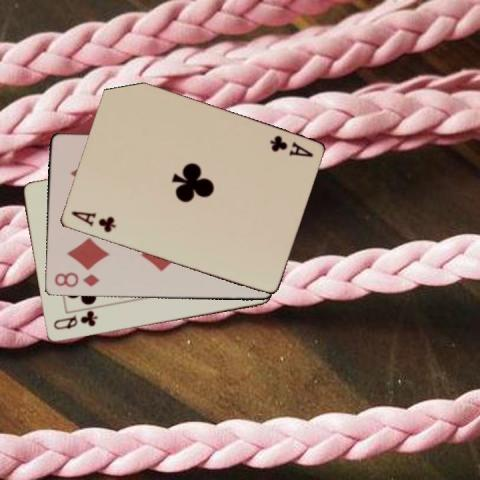8d: (51, 270, 101, 289)
Ac: (68, 208, 117, 235), (266, 132, 314, 158)
Qc: (50, 309, 99, 331)
